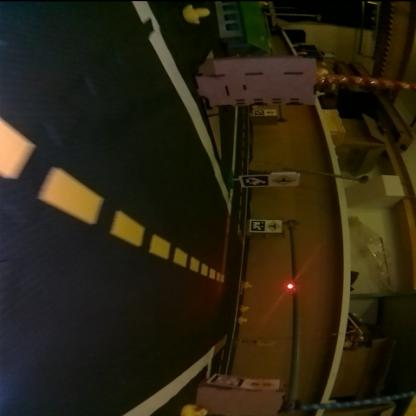Duckie: (184, 6, 210, 24), (181, 406, 208, 414), (242, 306, 249, 312), (240, 318, 247, 324), (246, 282, 251, 288)
Intersection sign: (271, 175, 298, 186), (270, 220, 282, 232)
QR code: (212, 374, 245, 386), (244, 176, 268, 184), (251, 221, 266, 231)
Signal sign: (247, 378, 279, 390)
Traffic light: (290, 282, 298, 289)
